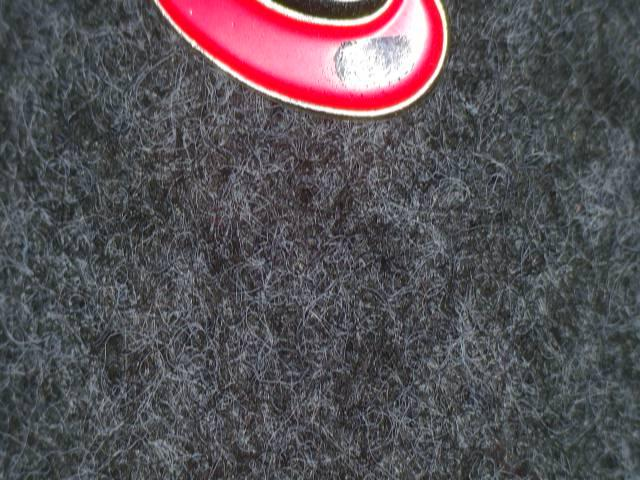Red-Hat: (133, 0, 480, 180)
Scratch: (325, 28, 429, 101)
